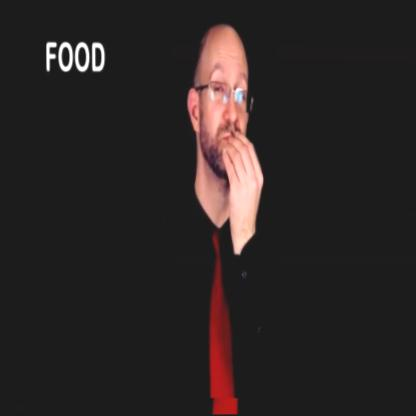Food: (162, 17, 281, 399)
